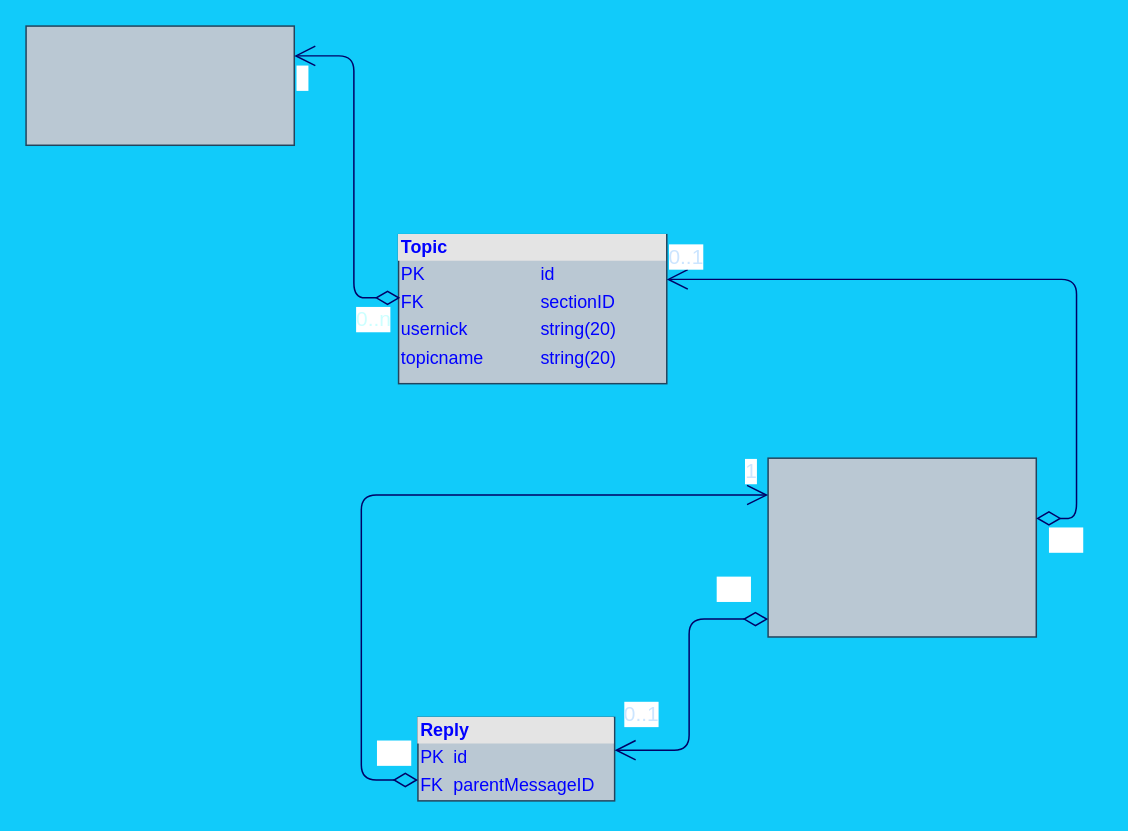
The diagram is 1128 pixels wide and 831 high, and some of its shapes have lost their labels. The centre of each missing label's shape, as x and y in pixels:
"Message PK id FK topicID usernick string(20) messagetext string(200) FK replyID" belongs at [901,547].
"Section PK id usernick string(20) sectionname string(20)" belongs at [159,85].
